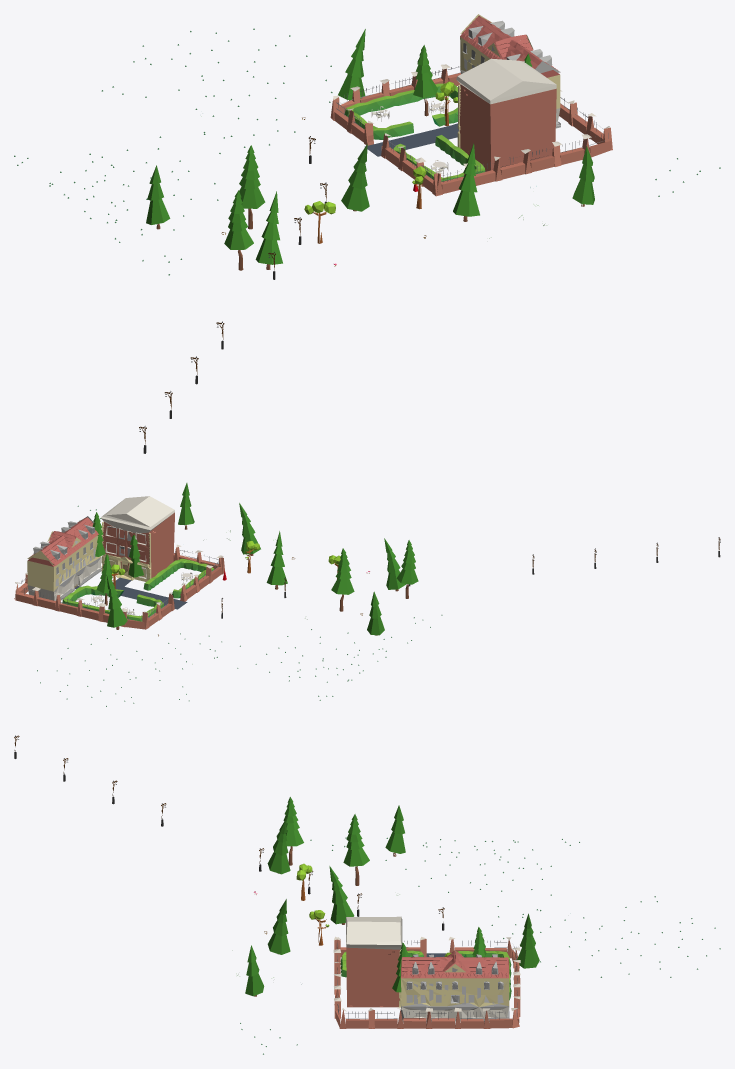
Rendered from chunk_2_2_lod2.glb.
3 views of the same model, one above another, from view 1: azimuth 30°, elevation 25°; view 2: azimuth 150°, elevation 25°; view 3: azimuth 270°, elevation 25° (orthographic). The views are drawn at different scales.
Parts seen in each view (by area): view 1: Batched_chunk_2_2_lod2; view 2: Batched_chunk_2_2_lod2; view 3: Batched_chunk_2_2_lod2.
Part boxes in pixels (x1=…): Batched_chunk_2_2_lod2: x1=14, y1=14, x2=720, y2=453; Batched_chunk_2_2_lod2: x1=14, y1=483, x2=720, y2=706; Batched_chunk_2_2_lod2: x1=14, y1=735, x2=720, y2=1054.
Size of the model in its own units: 111 by 12.65 by 111.
29 materials, 3 textured.
